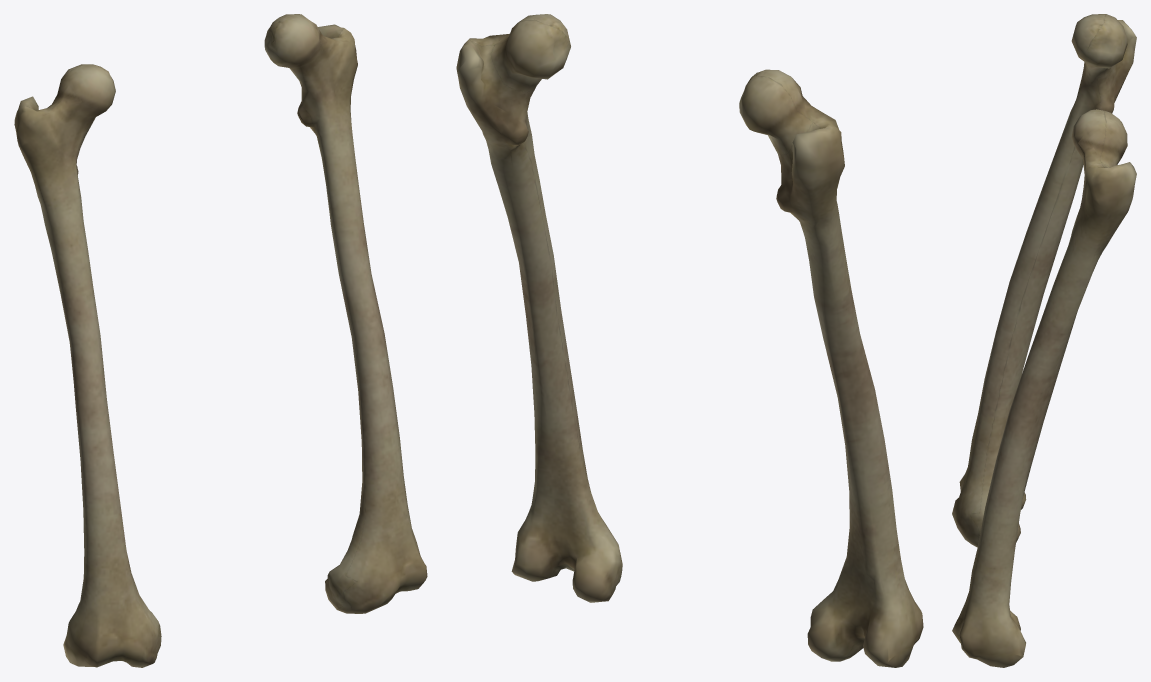
Rendered from 男性_骨骼系统_股骨.fbx.
3 views of the same model, side by side, from view 1: azimuth 30°, elevation 25°; view 2: azimuth 150°, elevation 25°; view 3: azimuth 270°, elevation 25° (orthographic). The views are drawn at different scales.
Parts seen in each view (by area): view 1: 男性_骨骼系统_股骨; view 2: 男性_骨骼系统_股骨; view 3: 男性_骨骼系统_股骨.
Boxes of the visible parts, left/top/right/bottom form: 男性_骨骼系统_股骨: left=14, top=14, right=427, bottom=667; 男性_骨骼系统_股骨: left=456, top=14, right=923, bottom=667; 男性_骨骼系统_股骨: left=952, top=14, right=1136, bottom=667.
Bounding box in the file's own units: 31.59 × 48.62 × 15.22.
